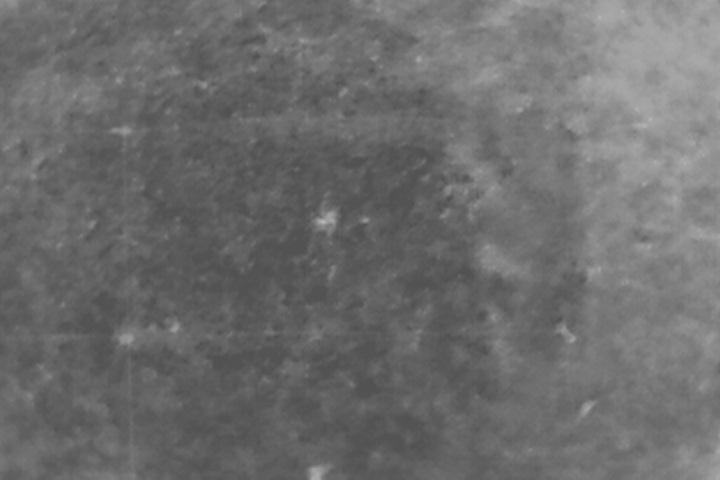landmine: (315, 209, 339, 230)
